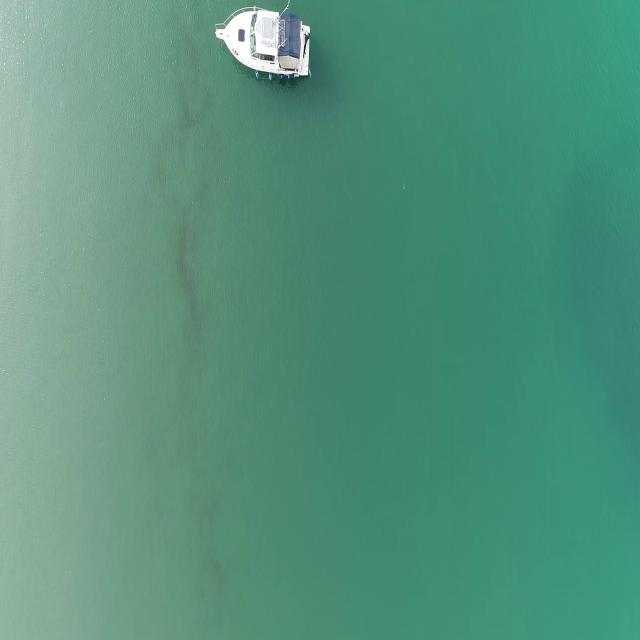boat: (213, 8, 312, 86)
